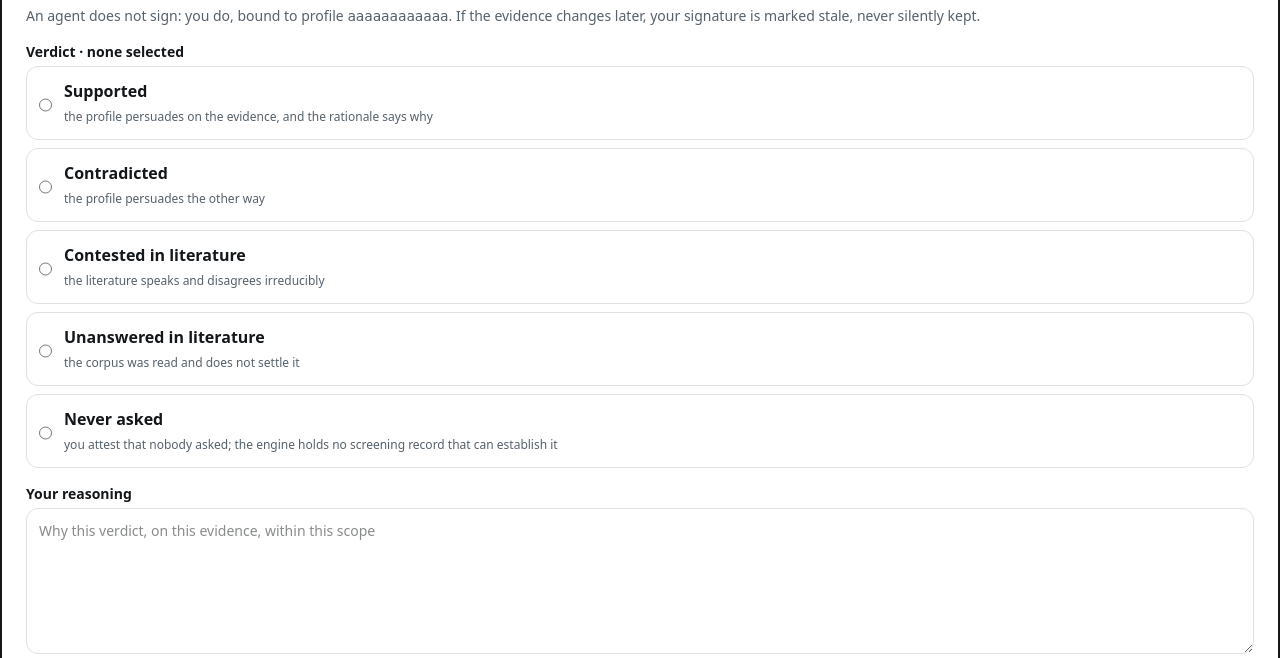
F4.4: drafts › Save draft posts the text and the shown hash only, never the verdict
Click the radio button labelled "Supported".
click(46, 105)  # box [39,83,52,127]
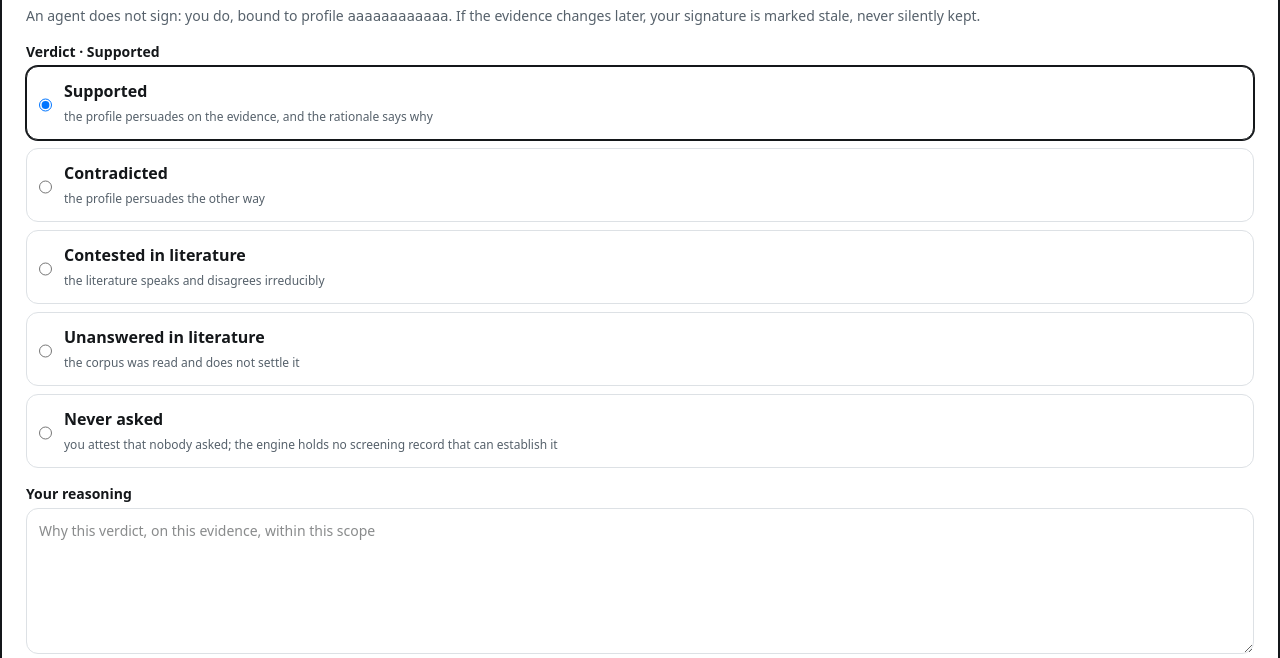
Type "some reasoning" into the text box.
click(640, 581); type("some reasoning")  # box [26,508,1254,654]
(page scrolled)
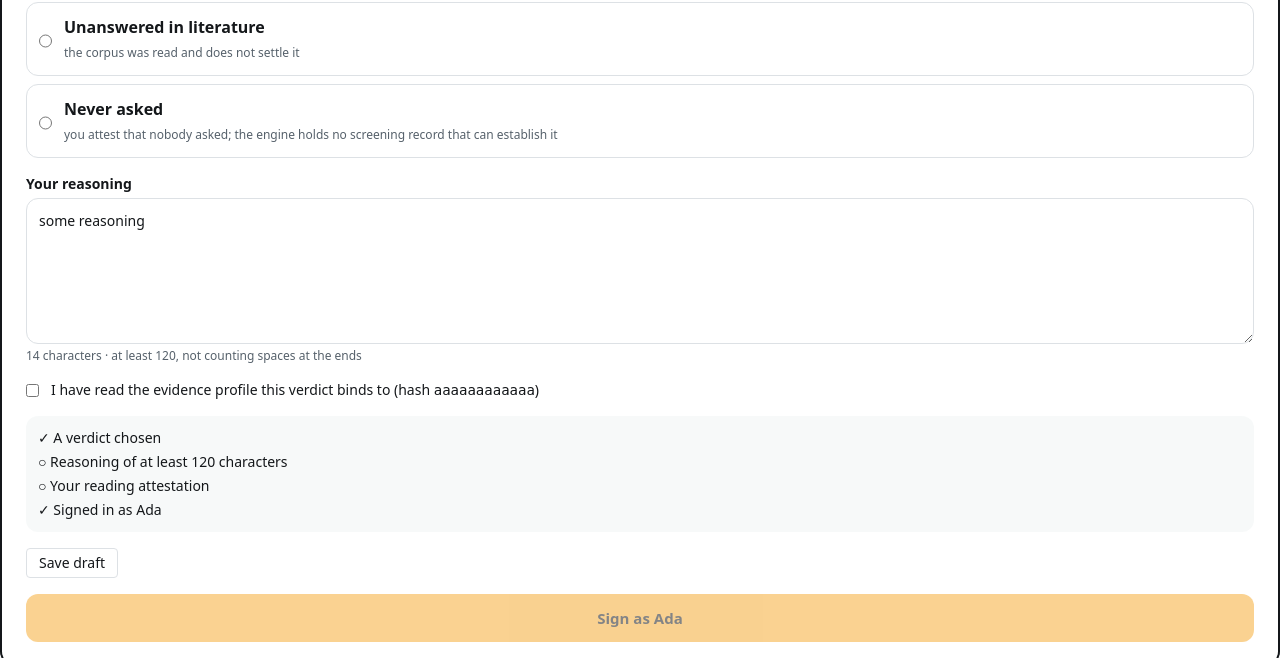
Click the button "Save draft".
click(72, 563)  # box [26,548,118,578]
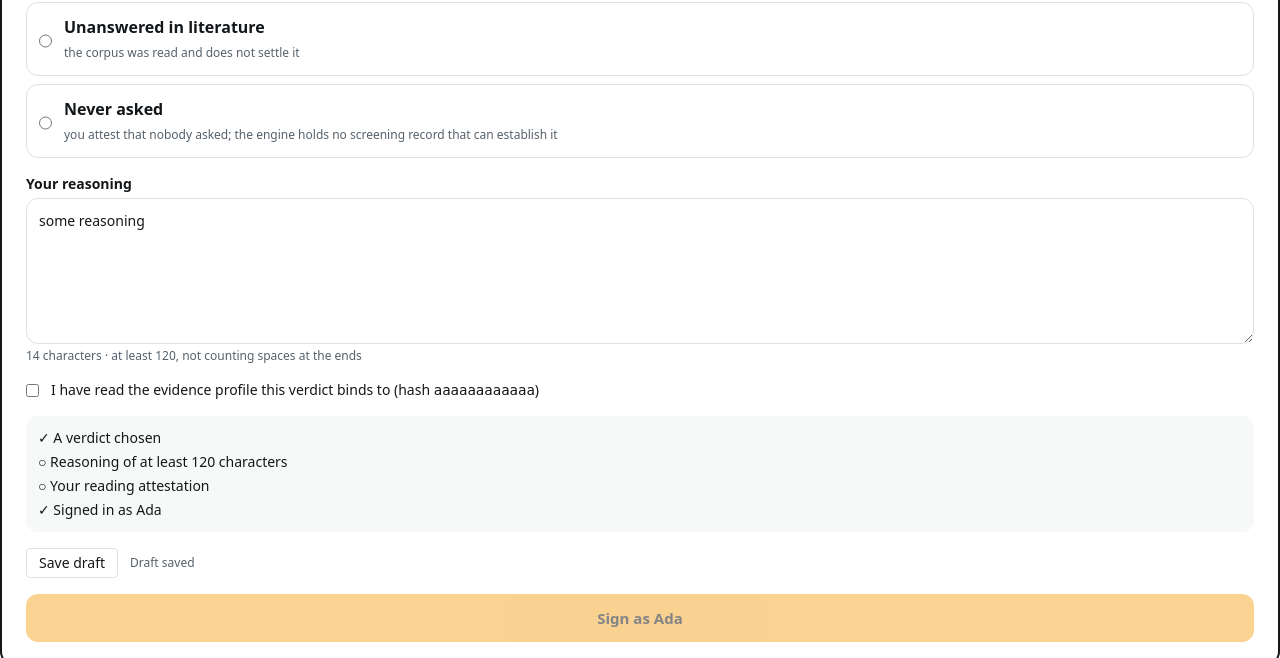
Now the text "Draft saved" is shown, box [130,555,194,571]
